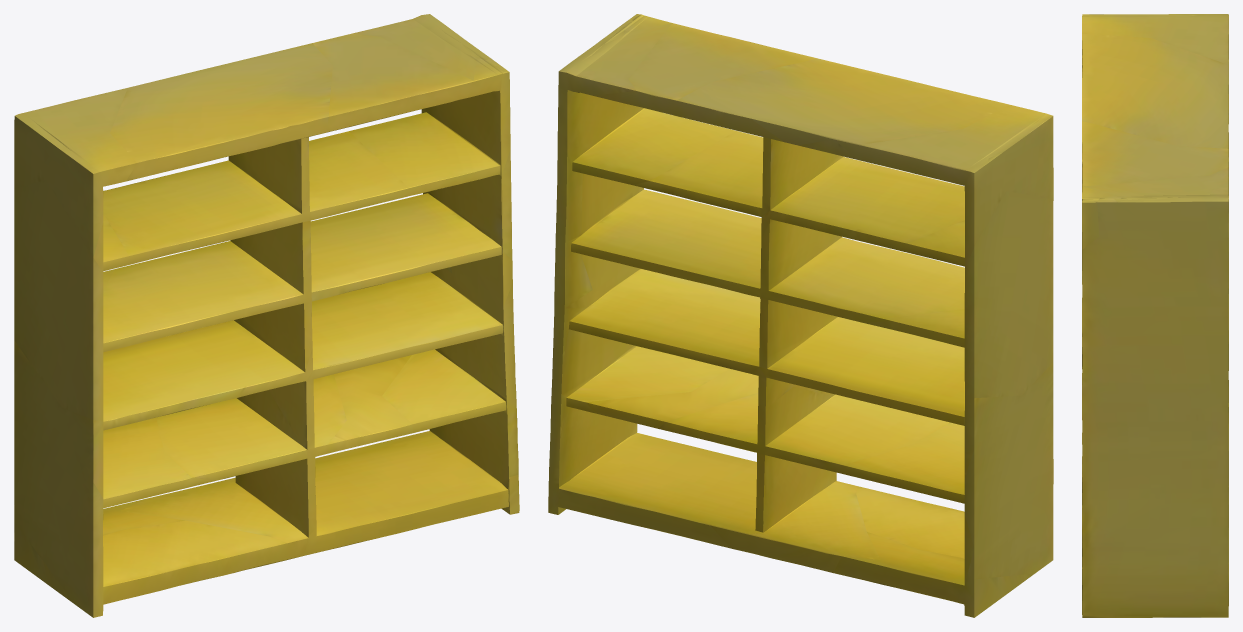
The model's file is toyShelfSolidT.glb.
3 views of the same model, side by side, from view 1: azimuth 30°, elevation 25°; view 2: azimuth 150°, elevation 25°; view 3: azimuth 270°, elevation 25° (orthographic). The views are drawn at different scales.
Parts seen in each view (by area): view 1: model; view 2: model; view 3: model.
Part boxes in pixels (x1,y1,x2,y2): model: (14,14,519,617); model: (548,14,1053,617); model: (1082,14,1228,617).
Bounding box in the file's own units: 1.9 × 1.9 × 0.6108.
1 material, 1 textured.
